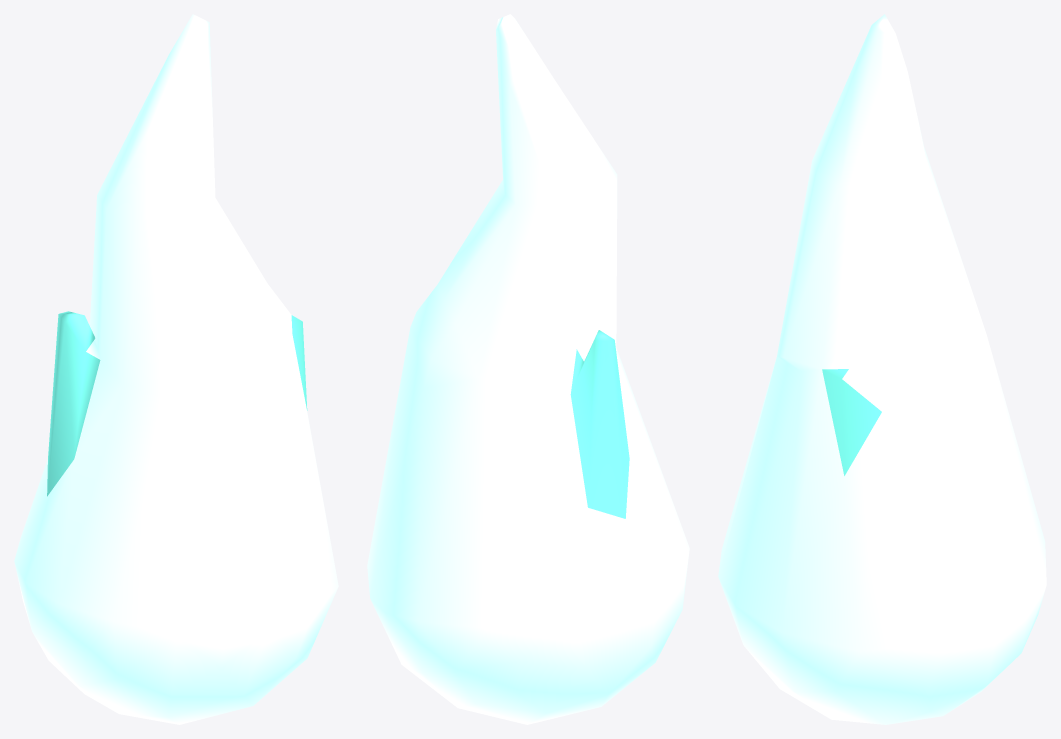
The model's file is soul_flame.glb.
3 renders of one model, left to right at view 1: azimuth 30°, elevation 25°; view 2: azimuth 150°, elevation 25°; view 3: azimuth 270°, elevation 25°, orthographic. The views are drawn at different scales.
Visible parts, largest first — view 1: soul_flame; view 2: soul_flame; view 3: soul_flame.
Boxes of the visible parts, box(x1,y1,x2,y2) form: soul_flame: box(14, 14, 338, 724); soul_flame: box(367, 14, 689, 724); soul_flame: box(718, 14, 1046, 724).
Bounding box in the file's own units: 0.5207 × 1.23 × 0.5202.
